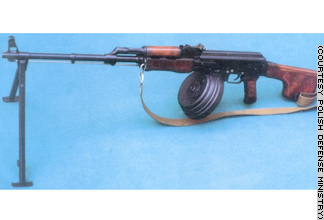rifle: (3, 38, 312, 184)
